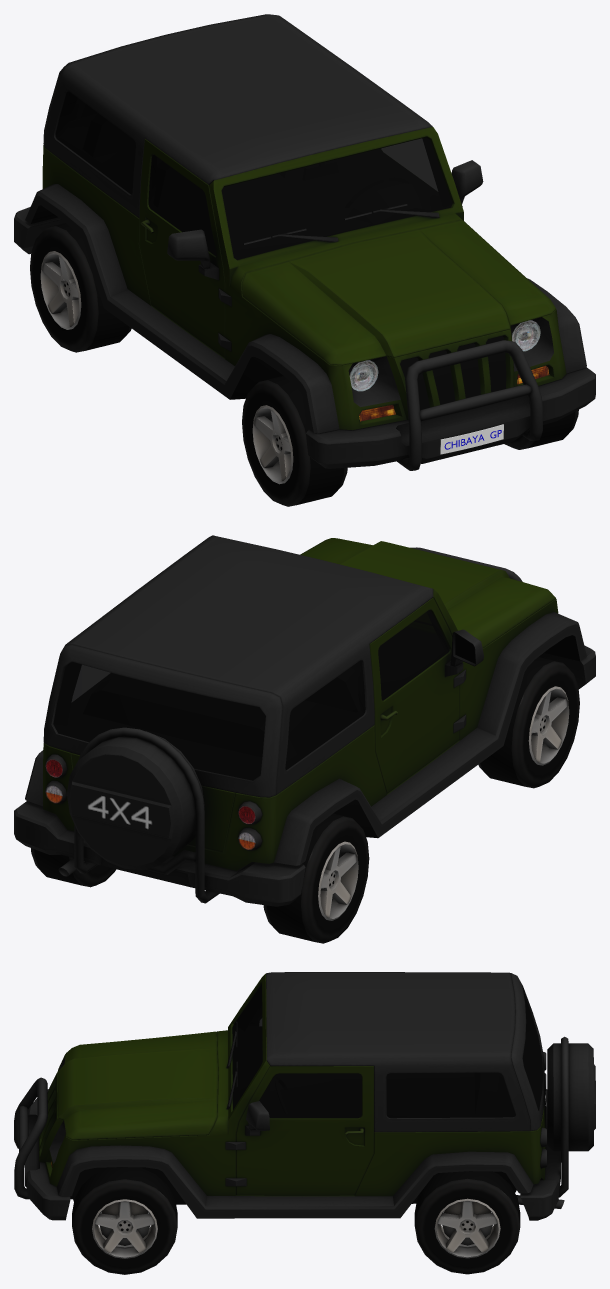
The model's file is jeep.glb.
3 renders of one model, top to bottom at view 1: azimuth 30°, elevation 25°; view 2: azimuth 150°, elevation 25°; view 3: azimuth 270°, elevation 25°, orthographic. The views are drawn at different scales.
Visible parts, largest first — view 1: Offroad Body, Wheel_G001_Wheel_0.001, Wheel_G002, Wheel_G, plate_01_plate_0_plate_0.001; view 2: Offroad Body, Wheel_G001_Wheel_0.001, Wheel_G002, Wheel_G001; view 3: Offroad Body, Wheel_G, Wheel_G001.
Boxes of the visible parts, <box> form: Offroad Body: <box>14,14,595,470</box>; Wheel_G001_Wheel_0.001: <box>242,376,347,506</box>; Wheel_G002: <box>30,223,131,352</box>; Wheel_G: <box>504,410,578,449</box>; plate_01_plate_0_plate_0.001: <box>440,424,503,454</box>; Offroad Body: <box>14,535,595,906</box>; Wheel_G001_Wheel_0.001: <box>478,657,579,788</box>; Wheel_G002: <box>263,813,369,943</box>; Wheel_G001: <box>31,848,116,887</box>; Offroad Body: <box>14,972,595,1220</box>; Wheel_G: <box>72,1167,177,1274</box>; Wheel_G001: <box>414,1171,520,1274</box>.
Bounding box in the file's own units: 3.15 × 2.52 × 6.33.
6 materials, 3 textured.
